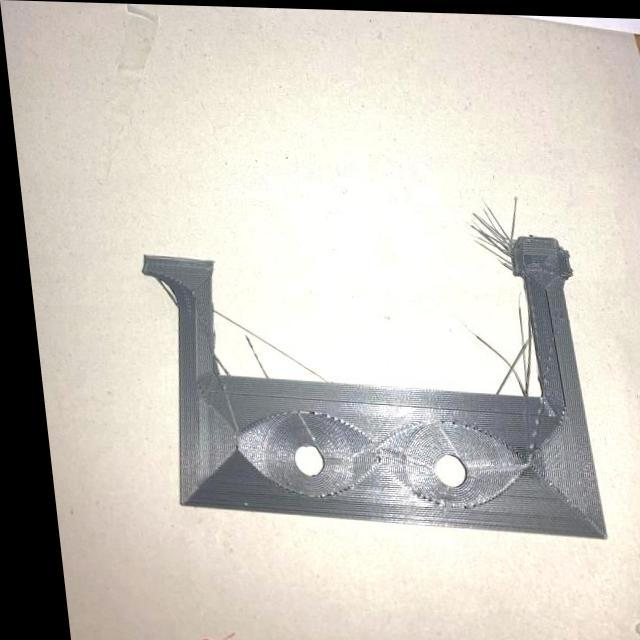stringing: (482, 317, 533, 392), (457, 200, 514, 256)
